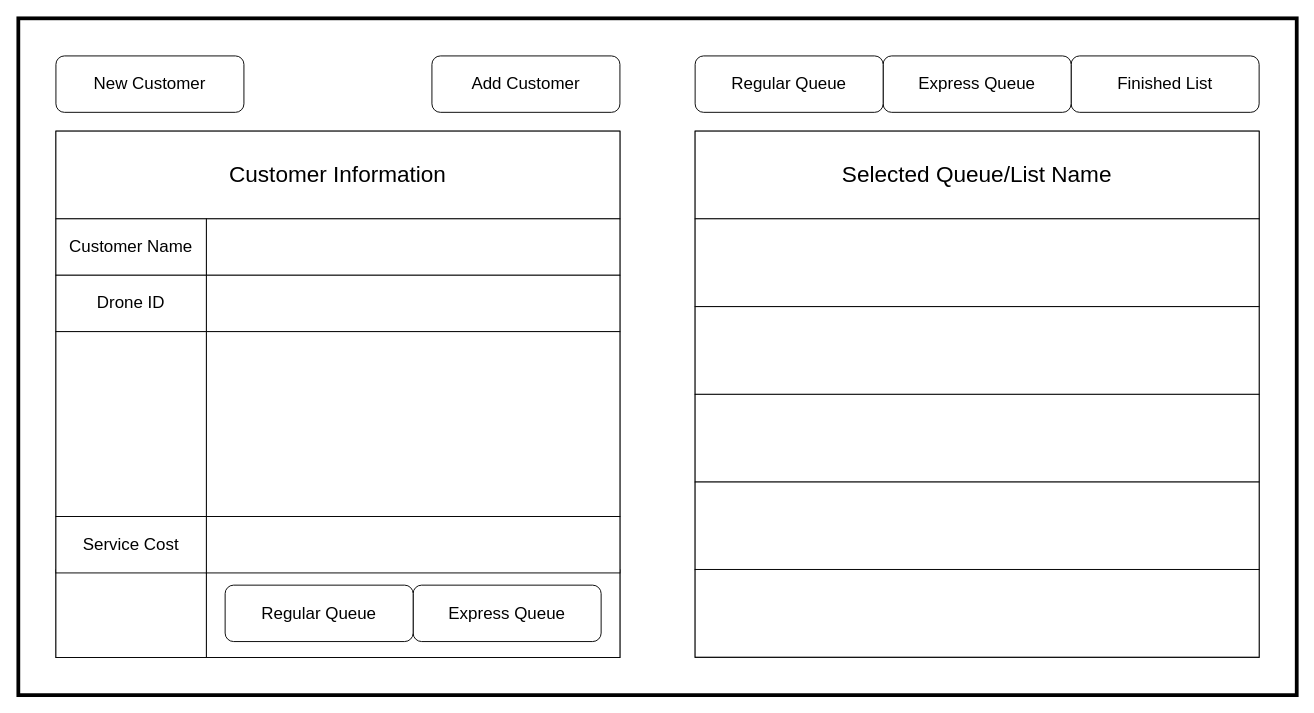
Image size: 1314x713. Some labels were removed from this diagram. The centre of each missing label's shape, as x and y in pixels:
"Service Request" goes at pixel 130 424.
"Service Type" goes at pixel 130 613.
